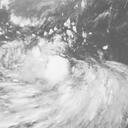cyclone: (25, 42, 89, 101)
